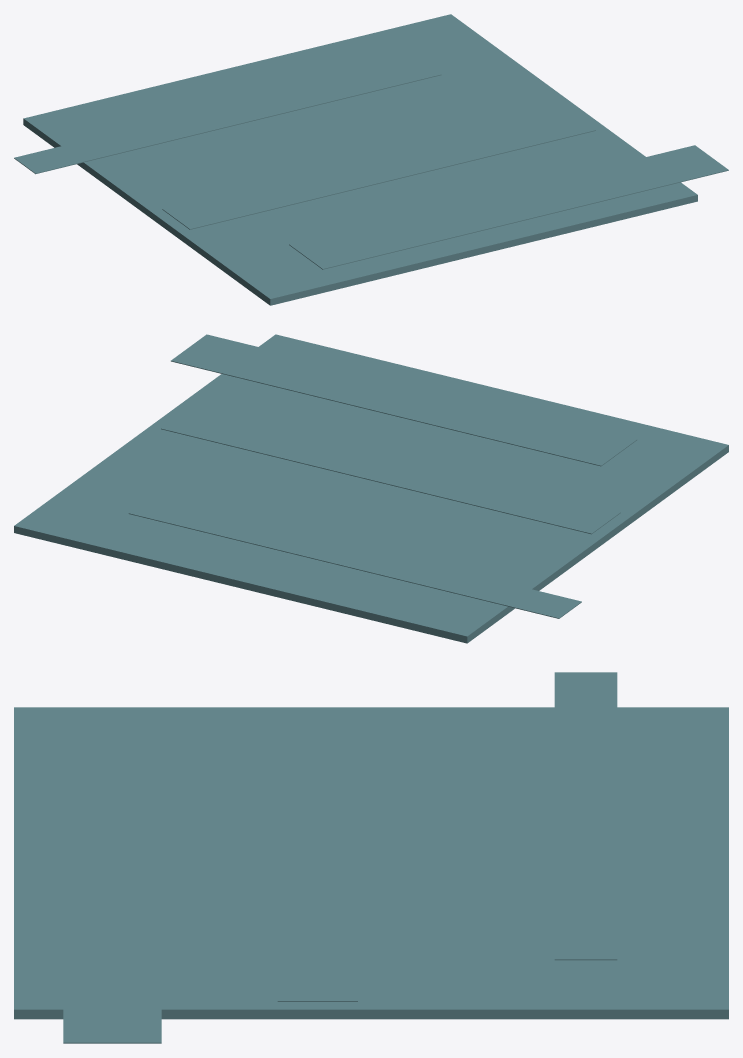
Rendered from fish-market-and-trawler-quay-fish-market-and-trawler-q-0b602eb7__37268.glb.
The picture shows the model from 3 angles, top to bottom: view 1: azimuth 30°, elevation 25°; view 2: azimuth 150°, elevation 25°; view 3: azimuth 270°, elevation 25°; orthographic projection. The views are drawn at different scales.
Visible parts, largest first — view 1: fish-market-and-trawler-quay-harbour-water-module; view 2: fish-market-and-trawler-quay-harbour-water-module; view 3: fish-market-and-trawler-quay-harbour-water-module.
Part boxes in pixels (x1,y1,x2,y2): fish-market-and-trawler-quay-harbour-water-module: (14,14,728,305); fish-market-and-trawler-quay-harbour-water-module: (14,334,728,643); fish-market-and-trawler-quay-harbour-water-module: (14,672,728,1043).
Size of the model in its own units: 9.8 by 0.1316 by 8.
